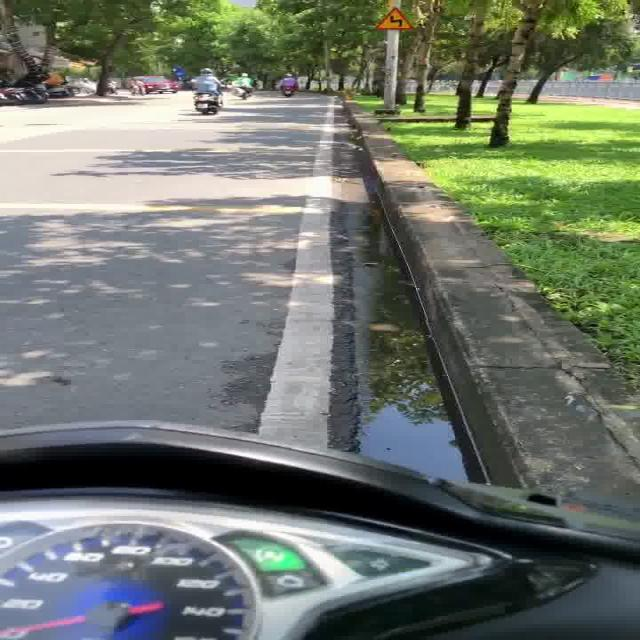Bien bao nhieu cho ngoat nguy hiem lien tiep: (370, 5, 423, 33)
